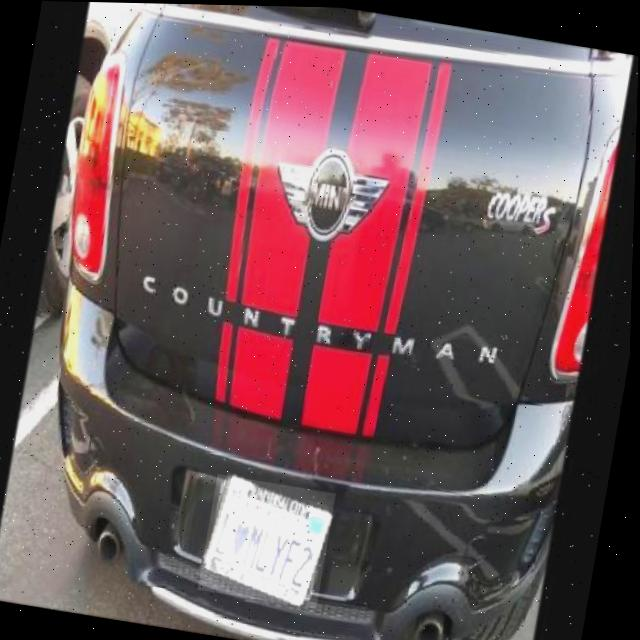LicensePlate: (201, 473, 339, 608)
